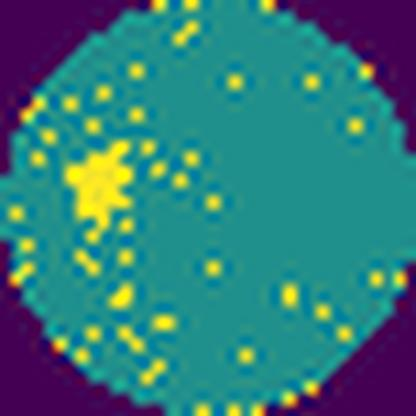Loc: (62, 136, 133, 242)
